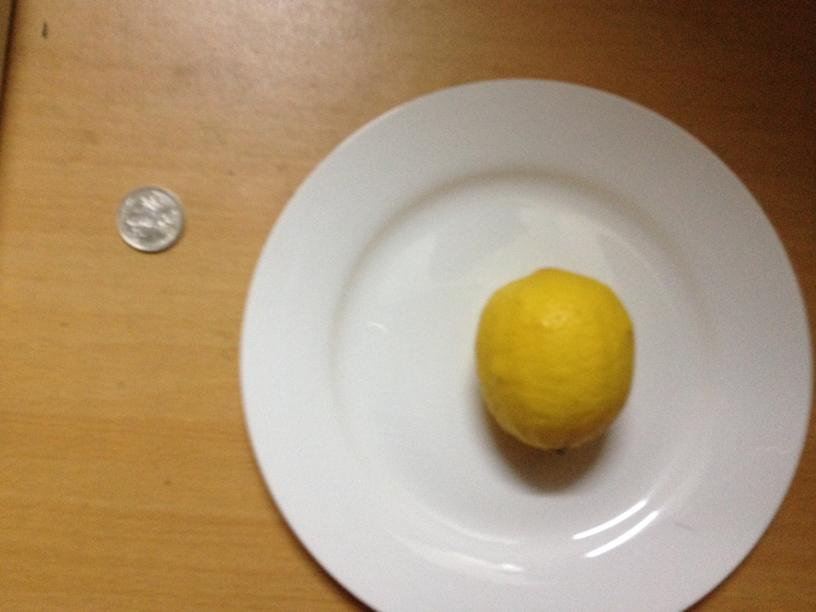coin: (117, 187, 182, 253)
lemon: (479, 269, 632, 451)
